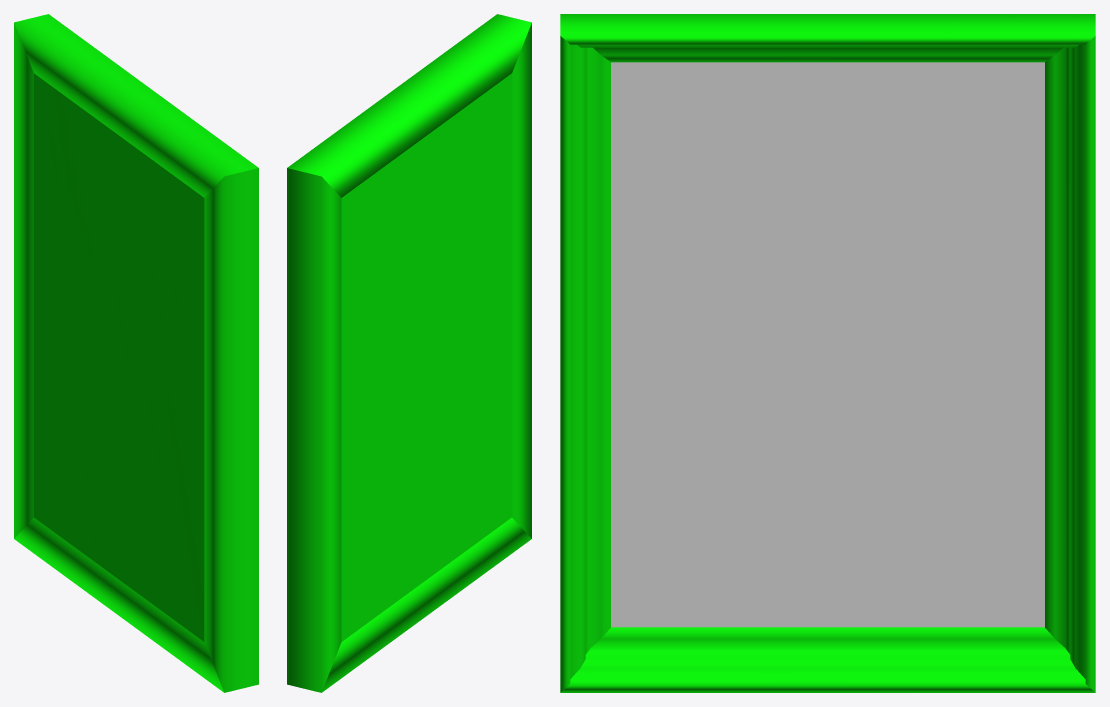
File: portrait-frame.glb
3 views of the same model, side by side, from view 1: azimuth 30°, elevation 25°; view 2: azimuth 150°, elevation 25°; view 3: azimuth 270°, elevation 25° (orthographic). The views are drawn at different scales.
Parts seen in each view (by area): view 1: Obraz01_ready; view 2: Obraz01_ready; view 3: Obraz01_ready.
Boxes of the visible parts, x1,y1,x2,y2 form: Obraz01_ready: [14, 14, 258, 692]; Obraz01_ready: [287, 14, 531, 692]; Obraz01_ready: [560, 14, 1095, 692].
Size of the model in its own units: 0.1223 by 1.74 by 1.29.
